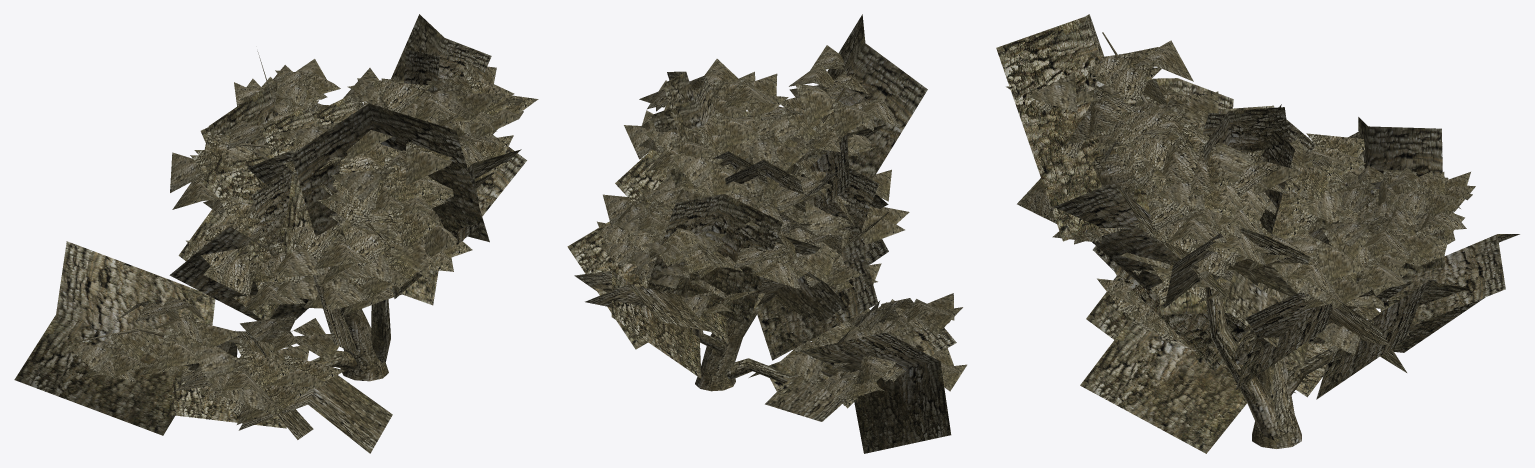
Rendered from oak_d_fall.dae.
The picture shows the model from 3 angles, left to right: view 1: azimuth 30°, elevation 25°; view 2: azimuth 150°, elevation 25°; view 3: azimuth 270°, elevation 25°; orthographic projection. The views are drawn at different scales.
Parts seen in each view (by area): view 1: oak_fall_d; view 2: oak_fall_d; view 3: oak_fall_d.
Boxes of the visible parts, x1,y1,x2,y2 form: oak_fall_d: (14,14,538,453); oak_fall_d: (567,14,966,453); oak_fall_d: (996,14,1519,453).
Bounding box in the file's own units: 1418 × 1179 × 1380.
